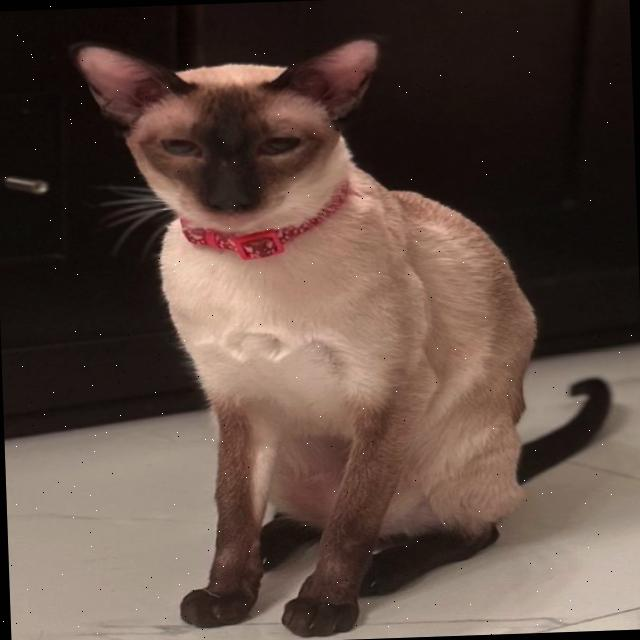siamese_cat: (45, 13, 408, 249)
